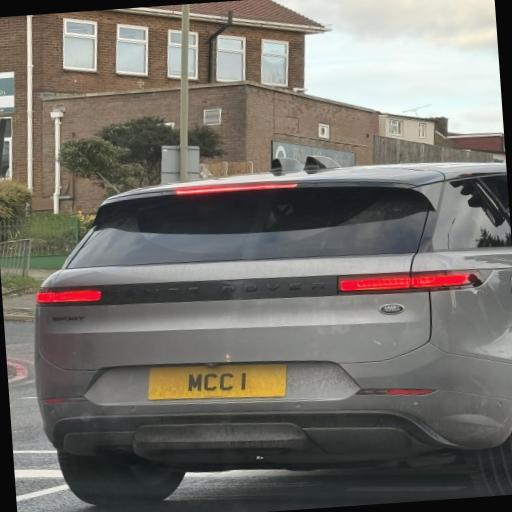numberplates: (148, 364, 286, 400)
